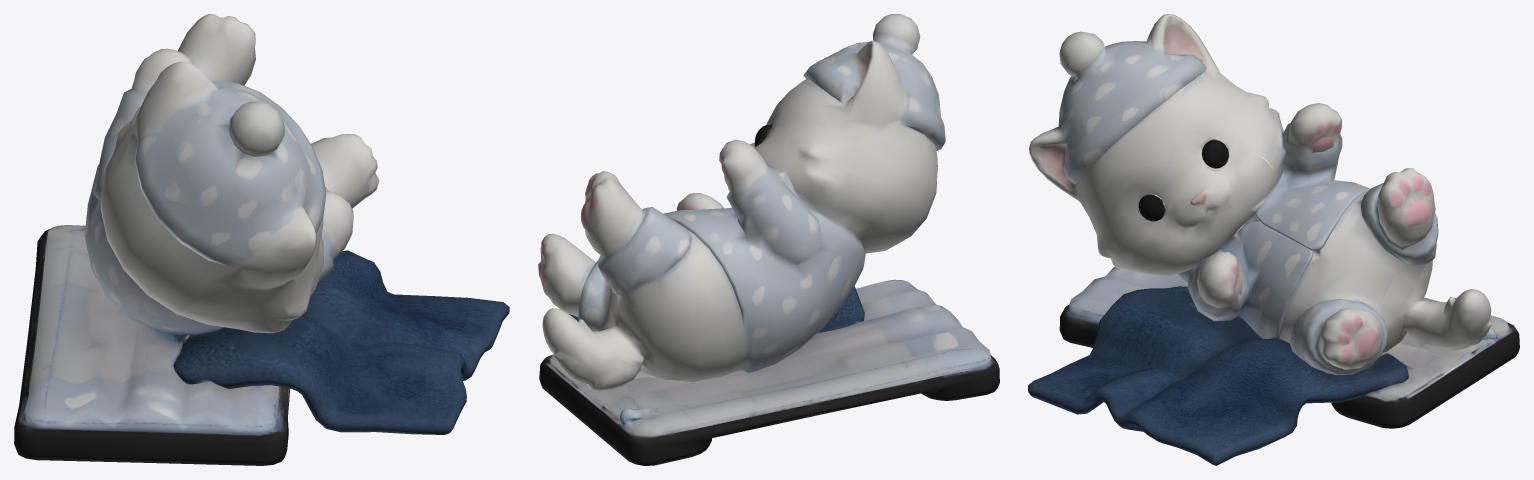
The model's file is figurine-v2-blanket-sleep.glb.
3 renders of one model, left to right at view 1: azimuth 30°, elevation 25°; view 2: azimuth 150°, elevation 25°; view 3: azimuth 270°, elevation 25°, orthographic. The views are drawn at different scales.
Parts seen in each view (by area): view 1: tripo_node_99808f6d-c51d-4b80-8165-9cc7d238ee0f; view 2: tripo_node_99808f6d-c51d-4b80-8165-9cc7d238ee0f; view 3: tripo_node_99808f6d-c51d-4b80-8165-9cc7d238ee0f.
Boxes of the visible parts, x1,y1,x2,y2 form: tripo_node_99808f6d-c51d-4b80-8165-9cc7d238ee0f: [14, 14, 509, 465]; tripo_node_99808f6d-c51d-4b80-8165-9cc7d238ee0f: [538, 14, 999, 465]; tripo_node_99808f6d-c51d-4b80-8165-9cc7d238ee0f: [1028, 14, 1519, 465].
Bounding box in the file's own units: 1.05 × 0.7212 × 1.04.
1 material, 1 textured.
